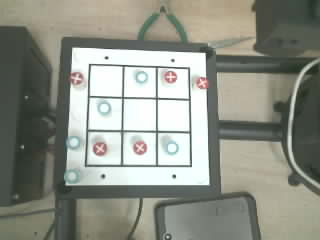blue circle: (64, 169, 80, 183), (98, 100, 111, 115), (166, 141, 179, 155), (66, 136, 80, 149), (135, 71, 147, 83)
board: (64, 48, 209, 185)
cells: (87, 132, 120, 164), (88, 98, 122, 129), (158, 133, 190, 165), (158, 68, 190, 99), (123, 133, 155, 164), (123, 99, 155, 130), (90, 66, 122, 96), (158, 100, 189, 130), (124, 67, 155, 97)
grid: (85, 64, 191, 166)
red cross: (69, 72, 83, 85), (93, 142, 107, 155), (133, 141, 146, 154), (164, 71, 176, 83), (196, 77, 208, 88)
